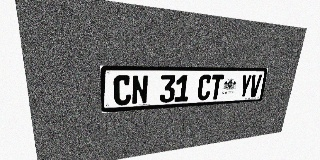1: (174, 75, 190, 102)
3: (159, 75, 176, 103)
C: (113, 75, 131, 106), (197, 75, 212, 101)
N: (131, 75, 148, 105)
T: (209, 75, 224, 100)
V: (248, 74, 262, 97)
Y: (238, 75, 252, 98)
